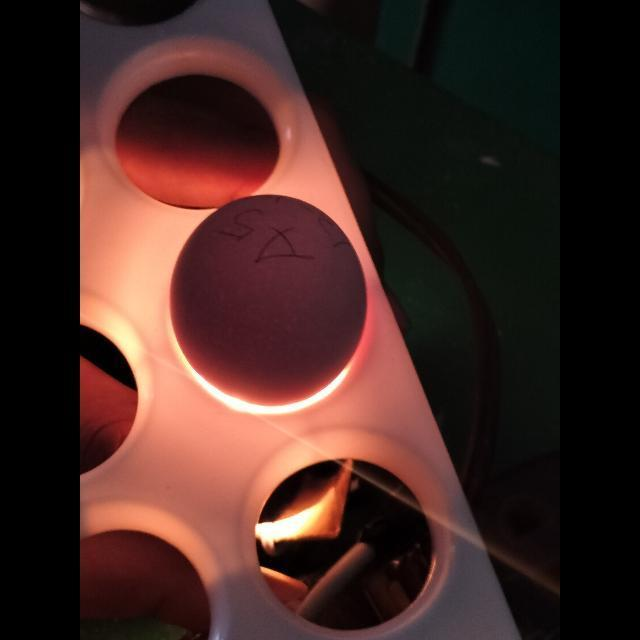A - Good: (164, 188, 382, 413)
